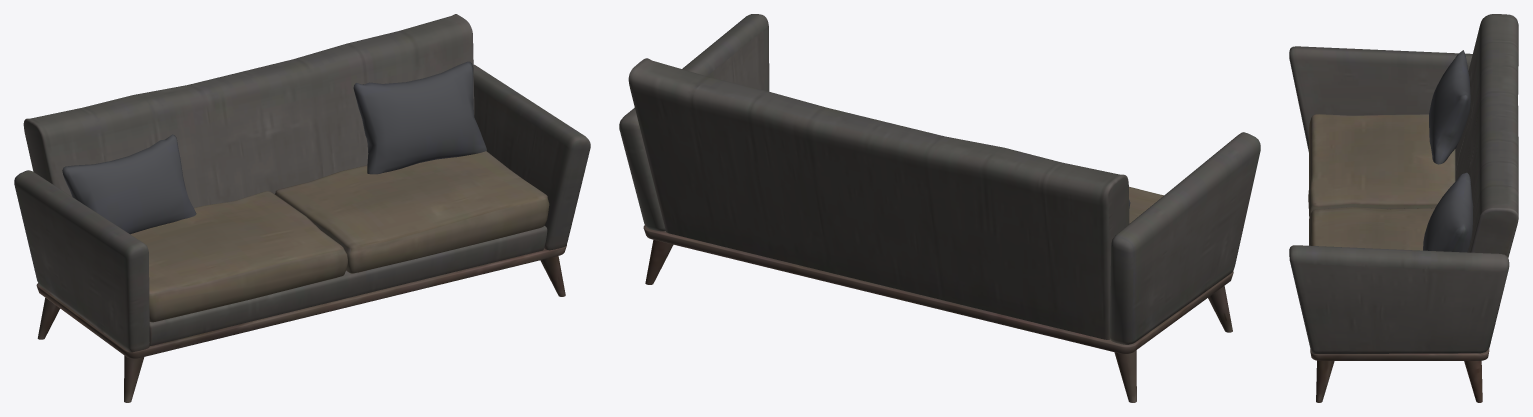
The model's file is sofa_midcentury.glb.
3 views of the same model, side by side, from view 1: azimuth 30°, elevation 25°; view 2: azimuth 150°, elevation 25°; view 3: azimuth 270°, elevation 25° (orthographic). The views are drawn at different scales.
Visible parts, largest first — view 1: Object_2; view 2: Object_2; view 3: Object_2.
Part boxes in pixels (x1,y1,x2,y2): Object_2: [14, 14, 590, 402]; Object_2: [619, 14, 1260, 402]; Object_2: [1289, 14, 1518, 402].
Size of the model in its own units: 2.1 by 0.8968 by 0.9701.
1 material, 1 textured.
